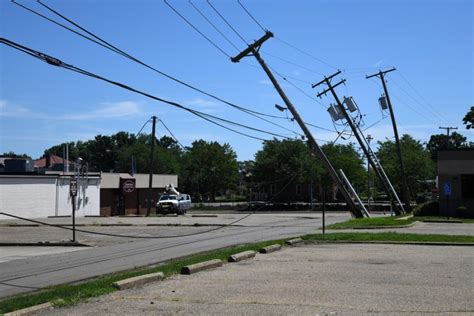pole: (222, 23, 314, 144), (367, 59, 424, 209)
